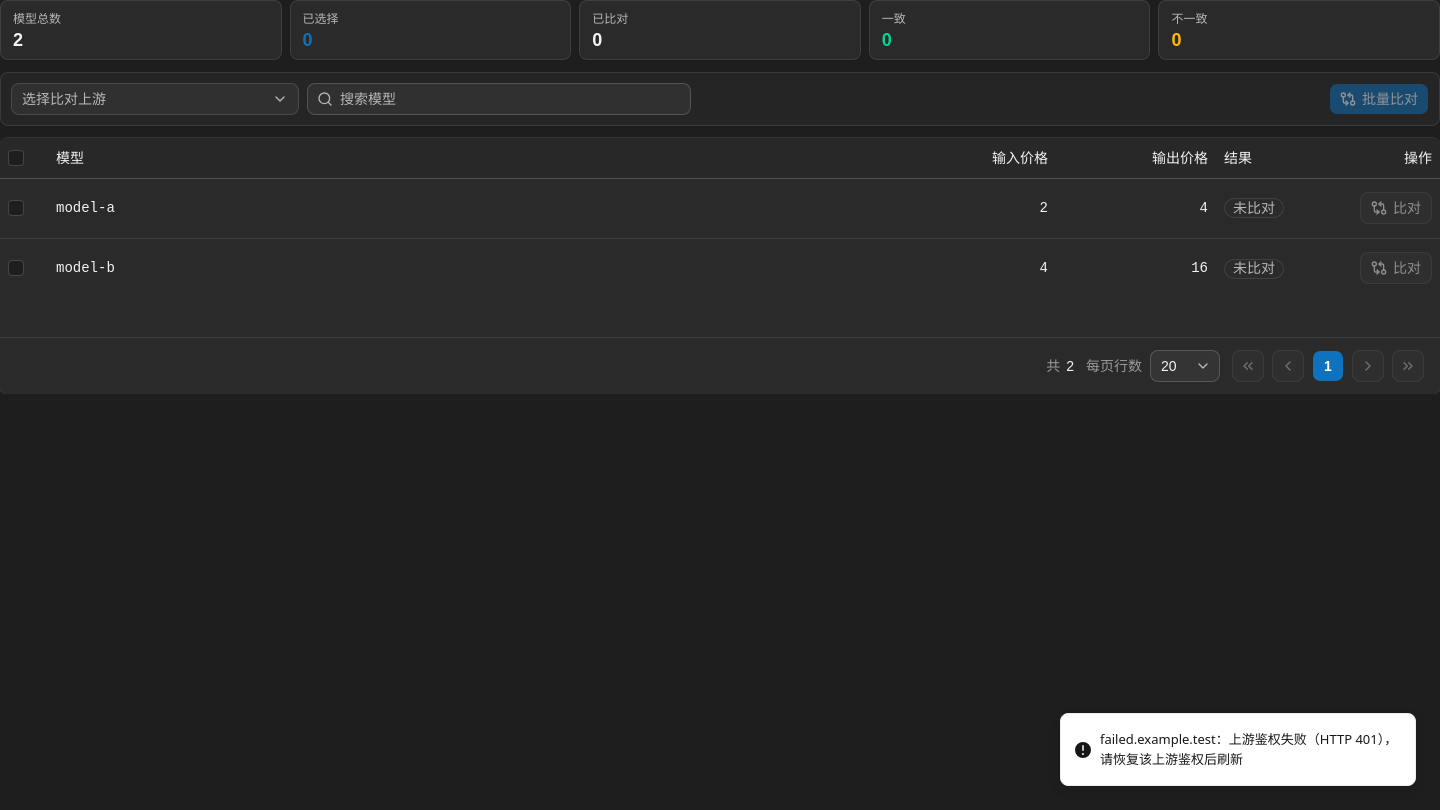
Test case: New API 价格比对 › 部分上游读取失败时悬浮提示原因并保留可用上游的比对操作
expect the text "failed.example.test：上游鉴权失败（HTTP 401），请恢复该上游鉴权后刷新" is shown once: met, box [1100,730,1399,769]
Click the dropdown labelled "比对上游". click: {"x": 64, "y": 99}
box: [11,83,299,115]
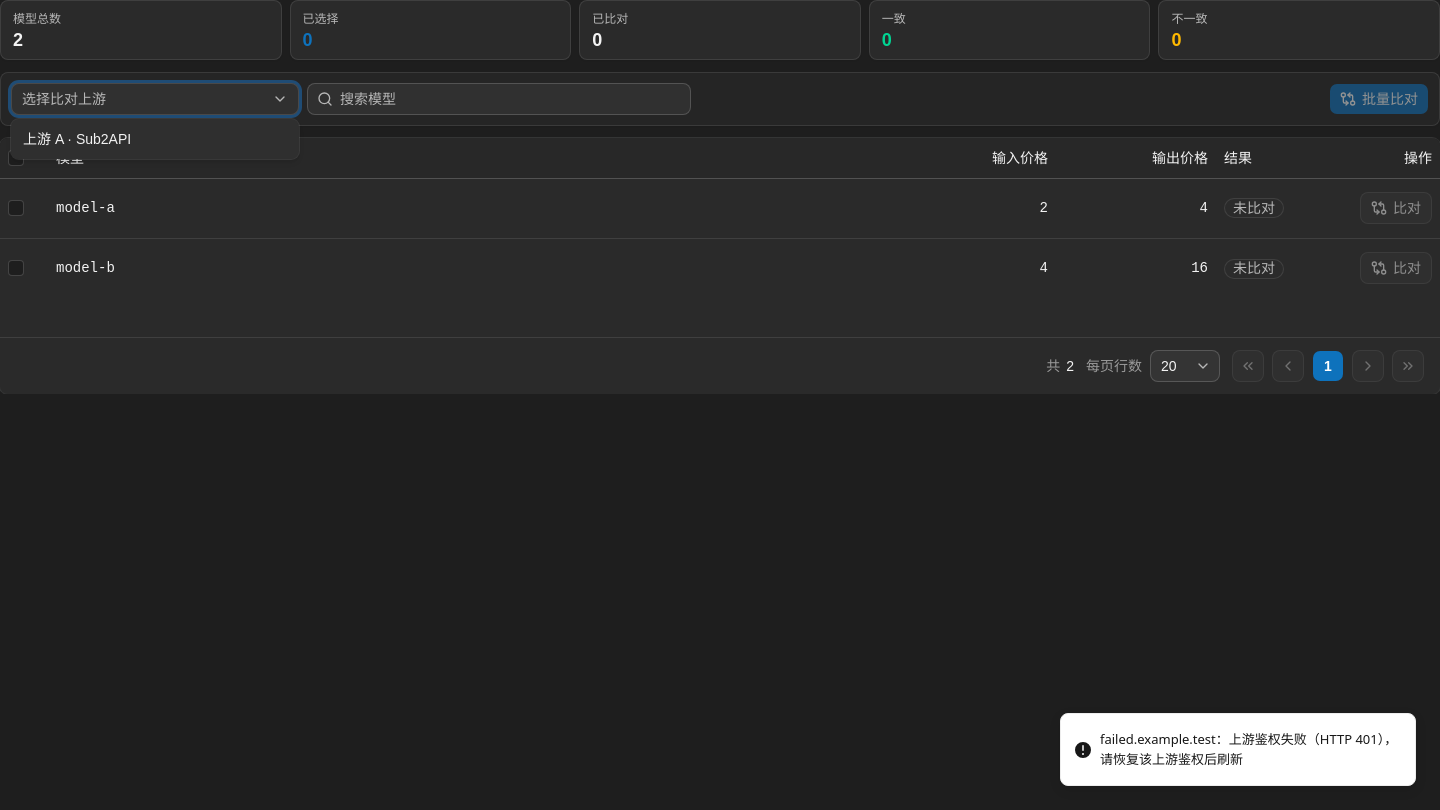
Click the option "上游 A · Sub2API". click: {"x": 77, "y": 139}
box: [15,123,295,155]
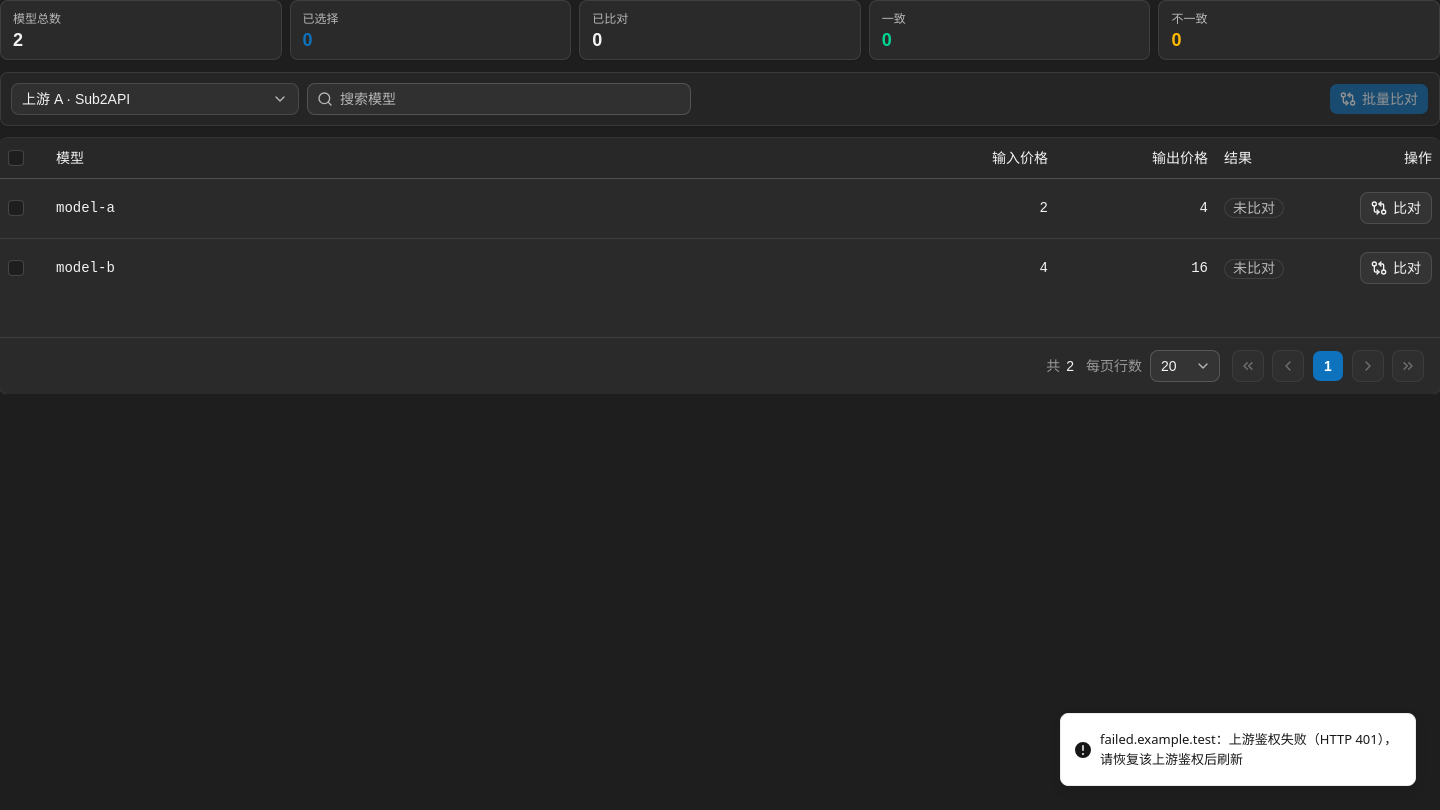
expect the button with aria-label "比对 model-a" is enabled: met, box [1360,192,1432,224]
